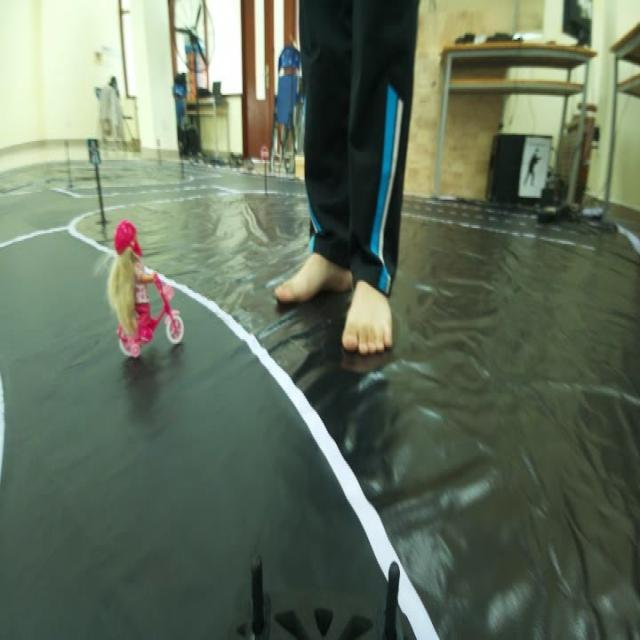pedestrian: (99, 222, 190, 353)
